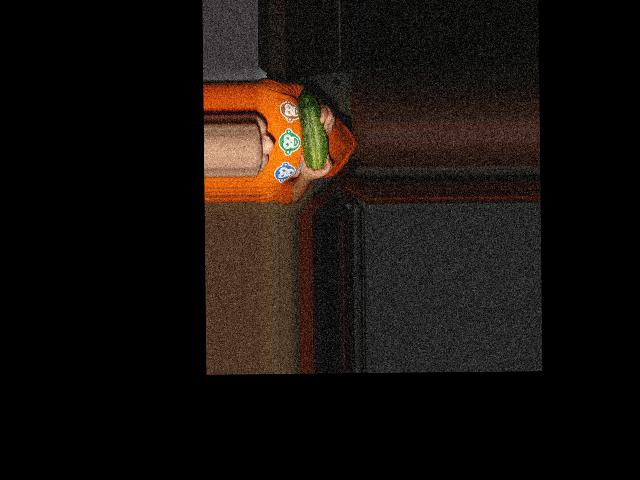cucumber: (297, 90, 328, 170)
